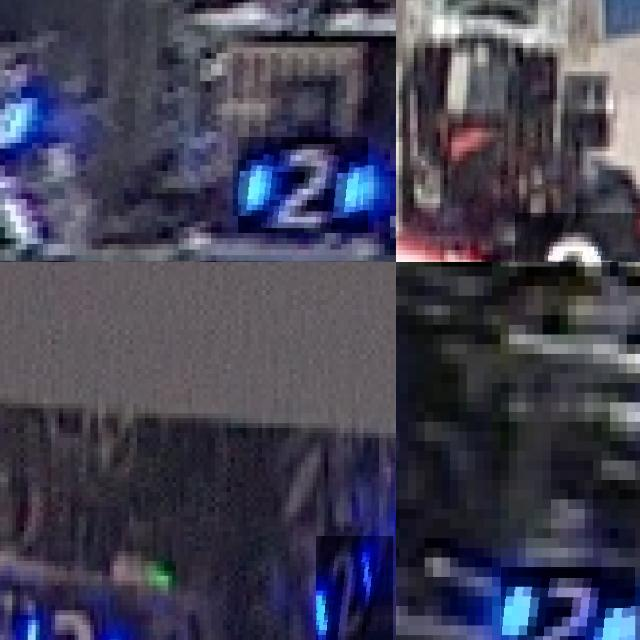B2: (238, 137, 368, 233), (500, 567, 635, 640), (316, 536, 394, 640), (23, 605, 121, 640)
R3: (515, 212, 640, 262)
